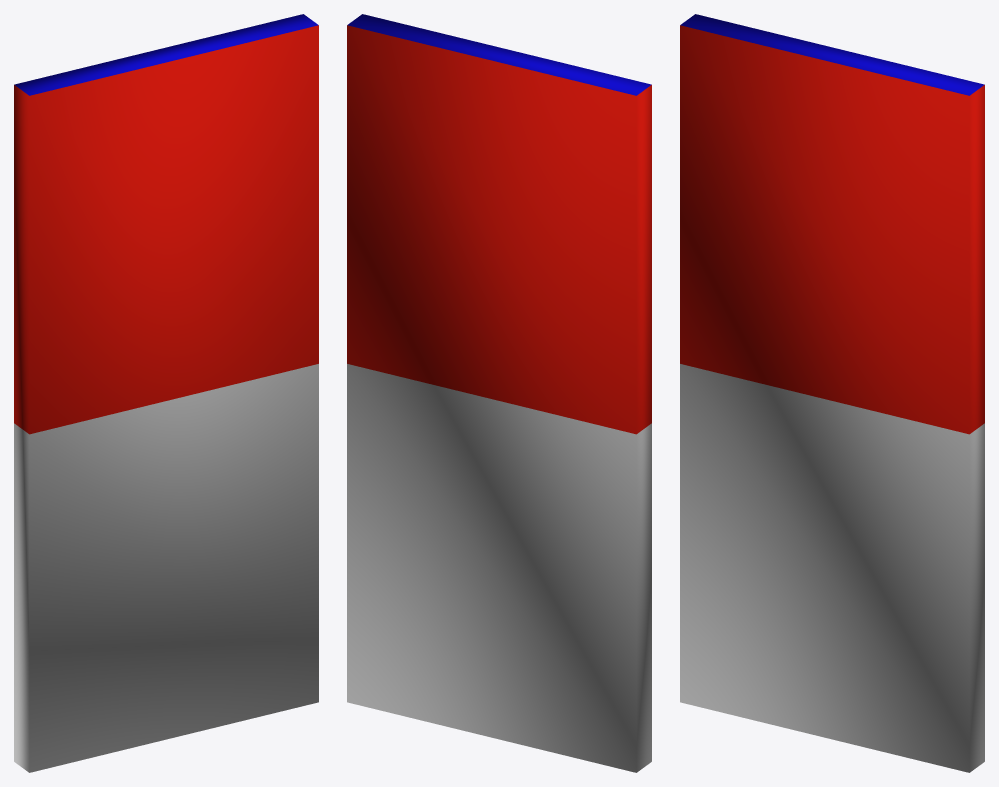
File: door_spruce.obj
3 views of the same model, side by side, from view 1: azimuth 30°, elevation 25°; view 2: azimuth 150°, elevation 25°; view 3: azimuth 330°, elevation 25° (orthographic).
Visible parts, largest first — view 1: Cube; view 2: Cube; view 3: Cube.
Part boxes in pixels (bbox=[...]): Cube: bbox=[14, 14, 318, 772]; Cube: bbox=[347, 14, 651, 772]; Cube: bbox=[680, 14, 984, 772].
Size of the model in its own units: 5.44 by 12.16 by 0.5.
